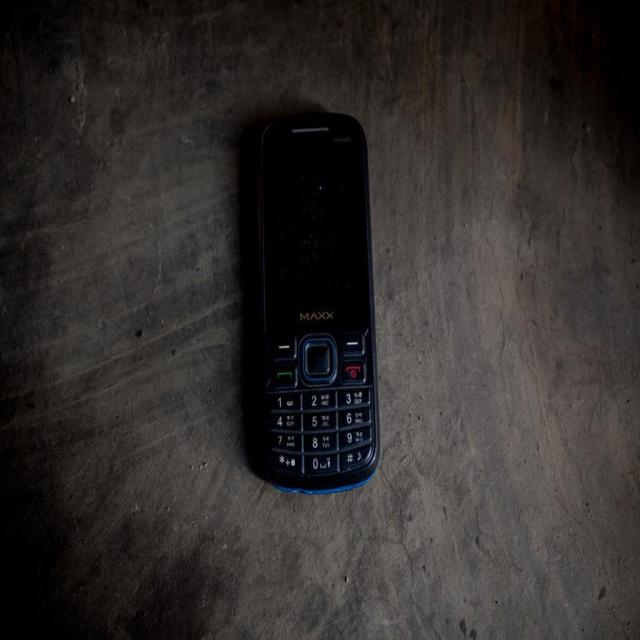Phone: (240, 105, 380, 494)
